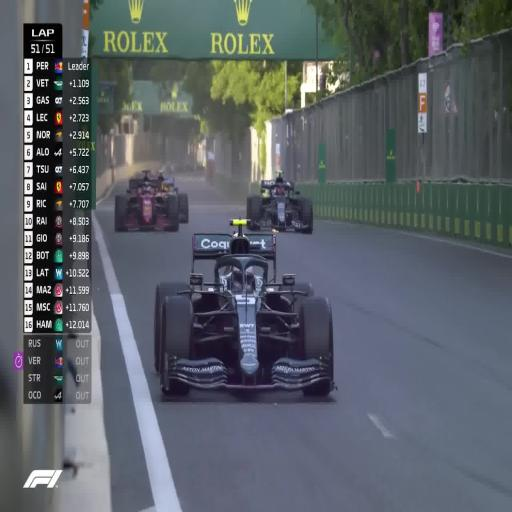f1_car: (154, 220, 335, 395), (246, 178, 313, 233), (114, 180, 179, 231), (157, 165, 189, 223)
